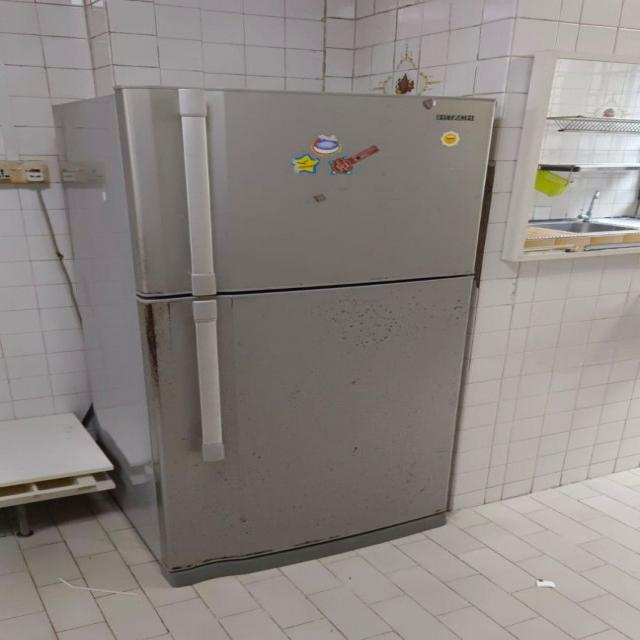refrigerator: (112, 84, 503, 583)
